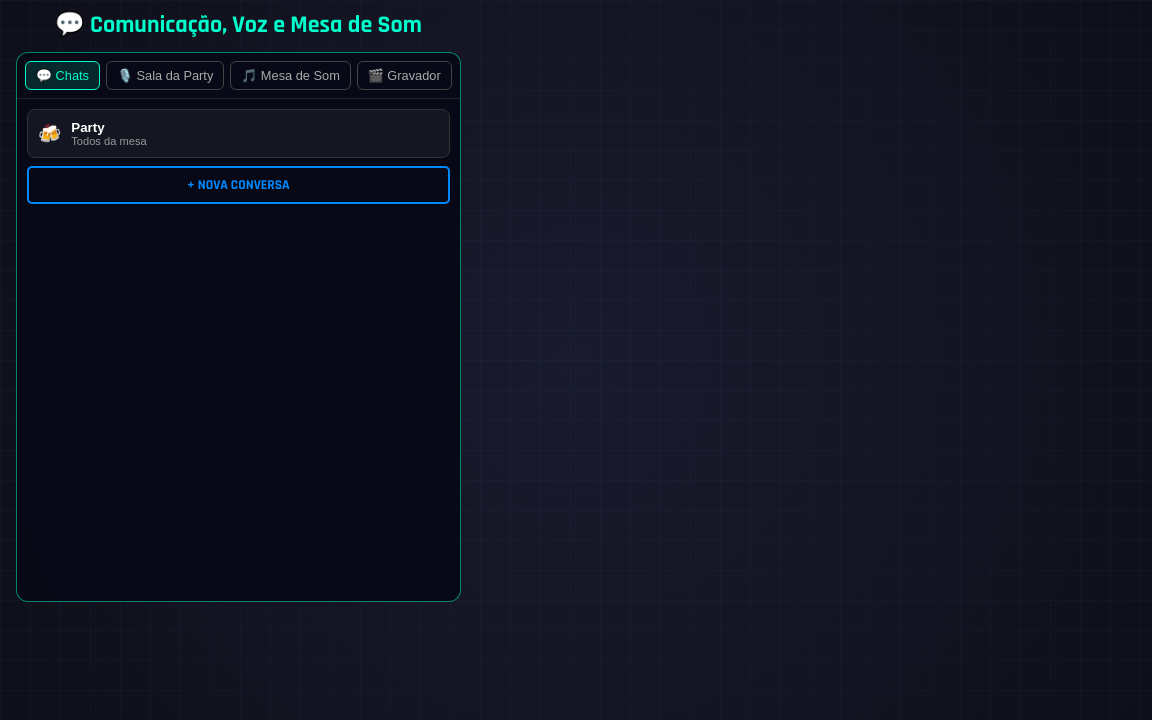
Test: ComunicacaoPanel › troca de secao mostra Sala da Party, Mesa de Som e Gravador sem desmontar os dois ultimos
The image size is (1152, 720).
Click the button "🎙️ Sala da Party" at (165, 76), box [106, 61, 224, 90]
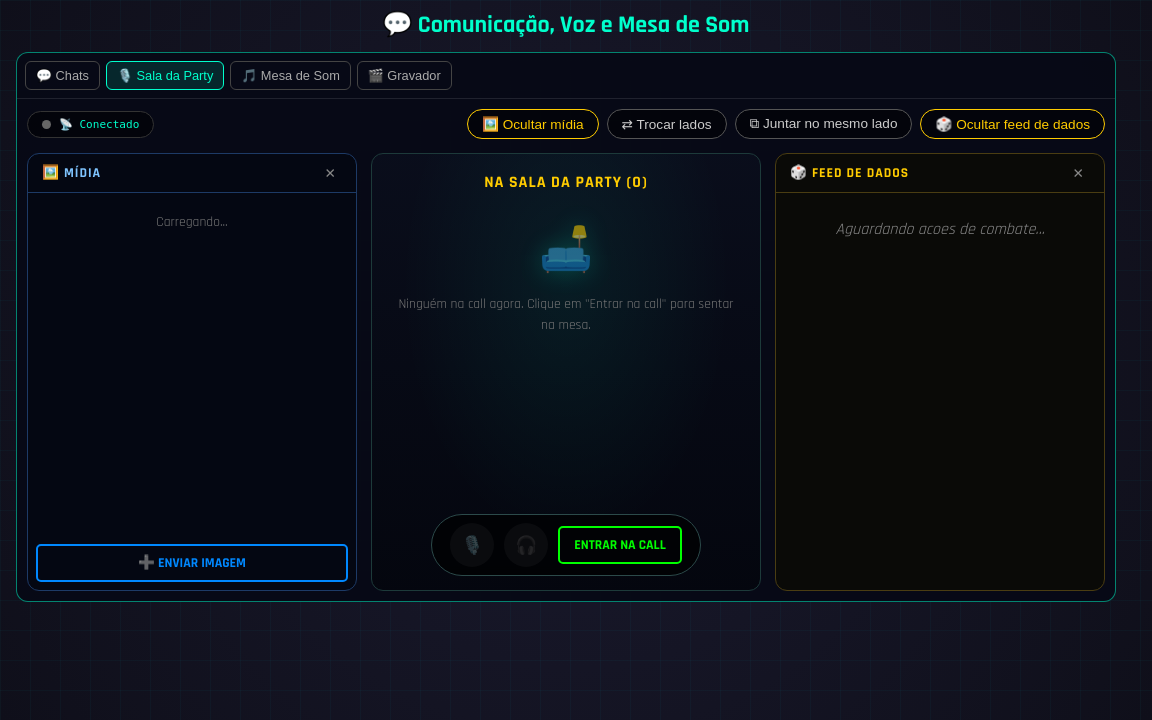
Result: the text "Na Sala da Party (0)" is shown at [484, 172, 648, 193]
Result: the button "+ Nova conversa" is gone
Click the button "🎵 Mesa de Som" at (291, 76), box [230, 61, 351, 90]
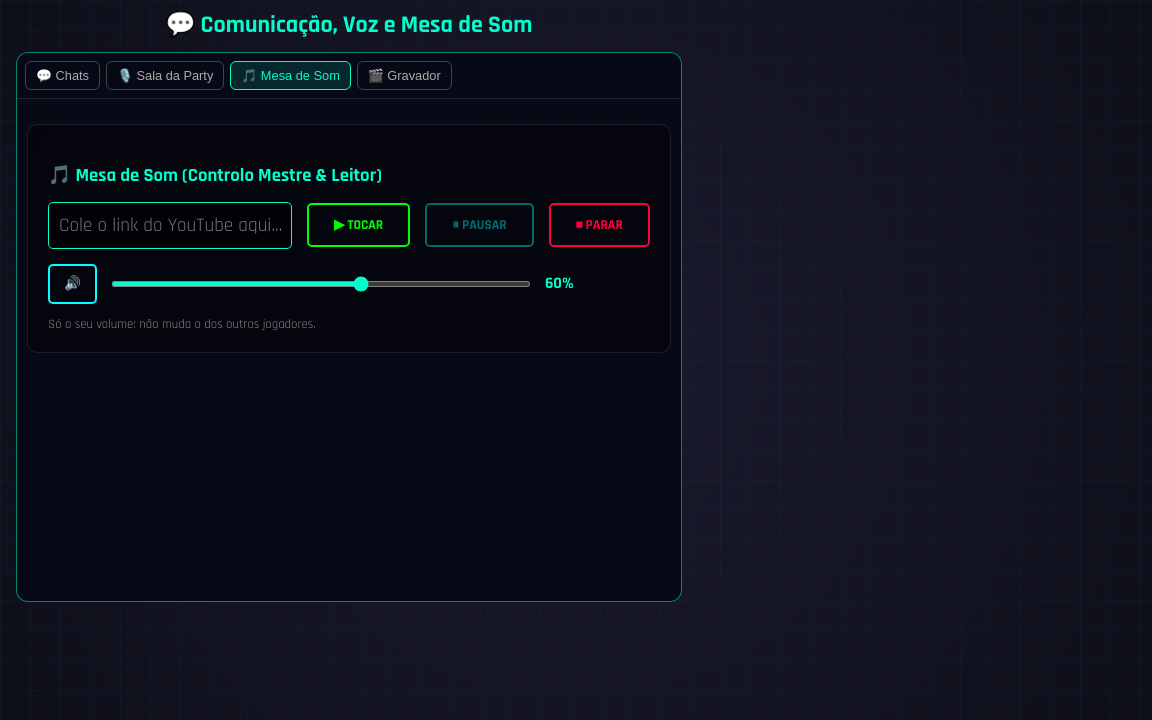
Result: the heading "🎵 Mesa de Som (Controlo Mestre & Leitor)" is shown at [48, 164, 382, 187]
Click the button "🎬 Gravador" at (404, 76), box [357, 61, 452, 90]
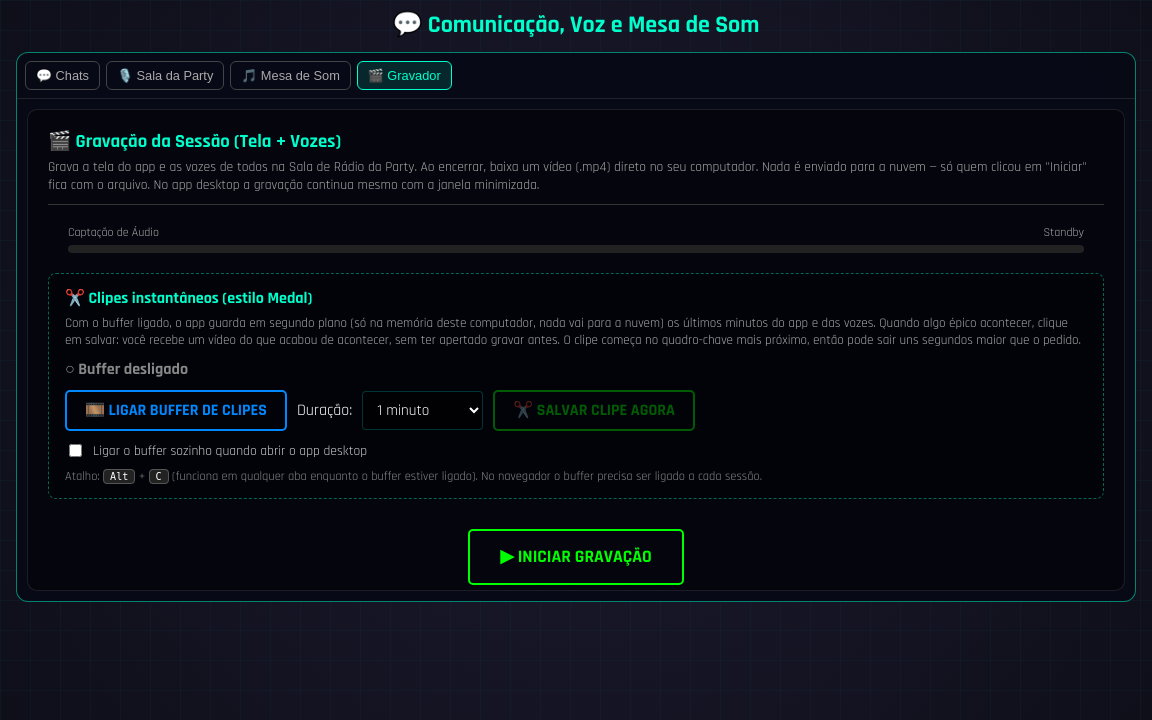
Result: the heading "🎬 Gravação da Sessão (Tela + Vozes)" is shown at [48, 130, 341, 153]
